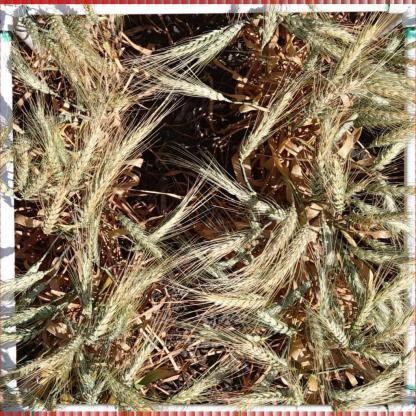whd: (330, 347, 415, 411), (198, 165, 288, 220), (237, 90, 290, 166), (341, 247, 389, 328), (326, 24, 378, 86), (81, 282, 128, 341), (106, 120, 157, 174), (164, 362, 232, 402), (267, 224, 311, 284), (278, 22, 345, 60), (300, 82, 359, 124), (63, 133, 106, 189), (111, 212, 163, 258), (46, 29, 104, 69), (80, 169, 118, 226), (134, 208, 185, 250), (353, 198, 413, 233), (284, 14, 358, 42), (11, 52, 56, 96), (101, 367, 147, 409), (47, 14, 84, 63), (371, 304, 415, 344), (235, 338, 288, 371), (268, 201, 298, 258), (197, 22, 247, 56), (41, 34, 77, 80), (122, 264, 163, 302), (328, 378, 395, 401), (118, 344, 154, 386), (39, 333, 82, 368), (362, 61, 416, 88), (163, 76, 225, 99), (0, 304, 57, 329), (168, 28, 224, 53), (271, 281, 312, 315), (347, 287, 377, 332), (0, 356, 42, 387), (0, 270, 46, 298), (197, 326, 260, 346), (42, 187, 68, 233), (106, 304, 135, 344), (191, 293, 268, 308), (367, 141, 408, 169), (346, 244, 398, 266), (18, 166, 56, 196), (234, 387, 290, 407), (26, 112, 72, 136), (210, 230, 256, 254), (44, 138, 66, 188), (370, 123, 414, 148), (317, 100, 374, 119), (328, 155, 346, 215), (256, 309, 294, 337), (61, 16, 96, 46), (344, 209, 388, 232), (362, 83, 416, 101), (0, 392, 47, 412), (0, 140, 33, 168), (382, 282, 404, 324), (49, 127, 73, 165), (76, 355, 96, 400), (362, 105, 414, 122), (89, 94, 128, 116), (79, 253, 93, 314), (376, 179, 402, 211), (359, 345, 400, 365), (331, 113, 359, 142), (306, 313, 324, 357), (319, 221, 337, 265), (20, 17, 43, 51), (314, 119, 332, 162), (261, 3, 277, 50), (376, 50, 416, 68), (368, 183, 416, 198), (227, 235, 251, 264), (376, 278, 406, 301), (308, 162, 326, 200), (32, 106, 52, 140), (251, 368, 278, 393), (325, 318, 347, 348), (15, 140, 28, 189), (0, 329, 45, 343), (54, 352, 76, 380), (354, 115, 400, 128), (302, 44, 326, 68), (87, 220, 100, 264), (1, 307, 36, 323), (362, 237, 398, 252), (20, 282, 47, 302), (318, 271, 330, 313), (63, 315, 88, 334), (85, 380, 105, 403), (288, 384, 308, 405), (214, 256, 242, 270), (343, 180, 367, 196), (379, 35, 400, 53), (82, 4, 99, 24), (23, 261, 44, 276), (112, 393, 129, 411), (75, 351, 88, 374), (348, 334, 364, 352), (79, 373, 94, 391), (250, 214, 262, 236), (0, 180, 14, 198), (206, 266, 226, 278), (371, 94, 390, 106), (88, 91, 105, 104), (14, 140, 30, 152), (0, 128, 8, 149), (0, 328, 21, 335), (146, 392, 160, 402), (402, 40, 414, 50), (50, 394, 56, 412), (247, 255, 256, 261), (325, 349, 330, 357)
